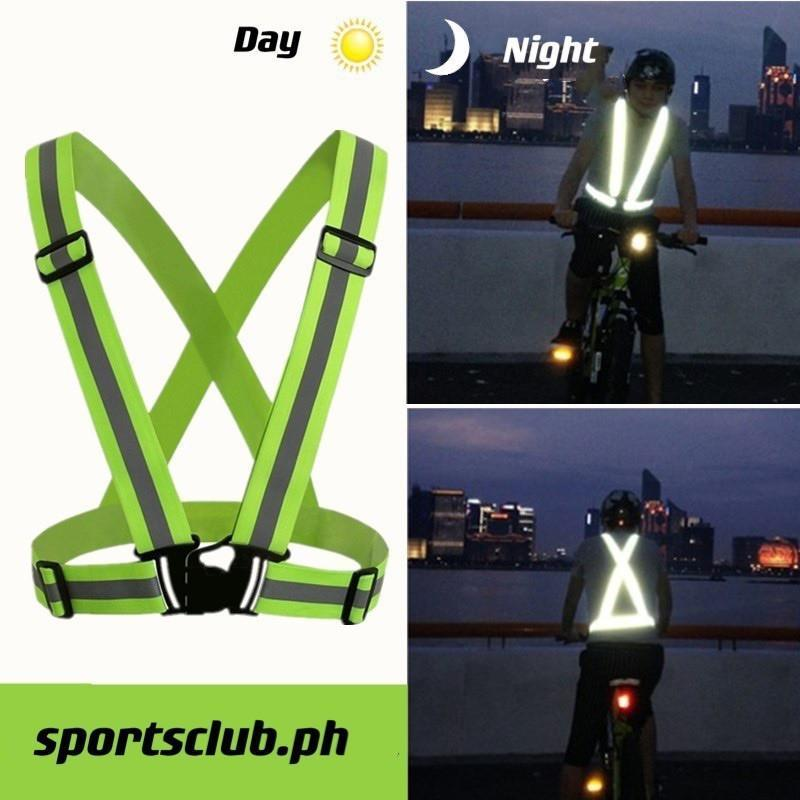Vest: (588, 100, 673, 207), (587, 526, 663, 637)
